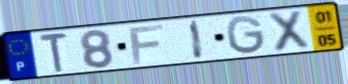8: (78, 28, 116, 70)
F: (127, 23, 167, 66)
G: (224, 14, 268, 56)
I: (188, 18, 207, 61)
T: (37, 32, 71, 74)
X: (266, 8, 312, 54)
